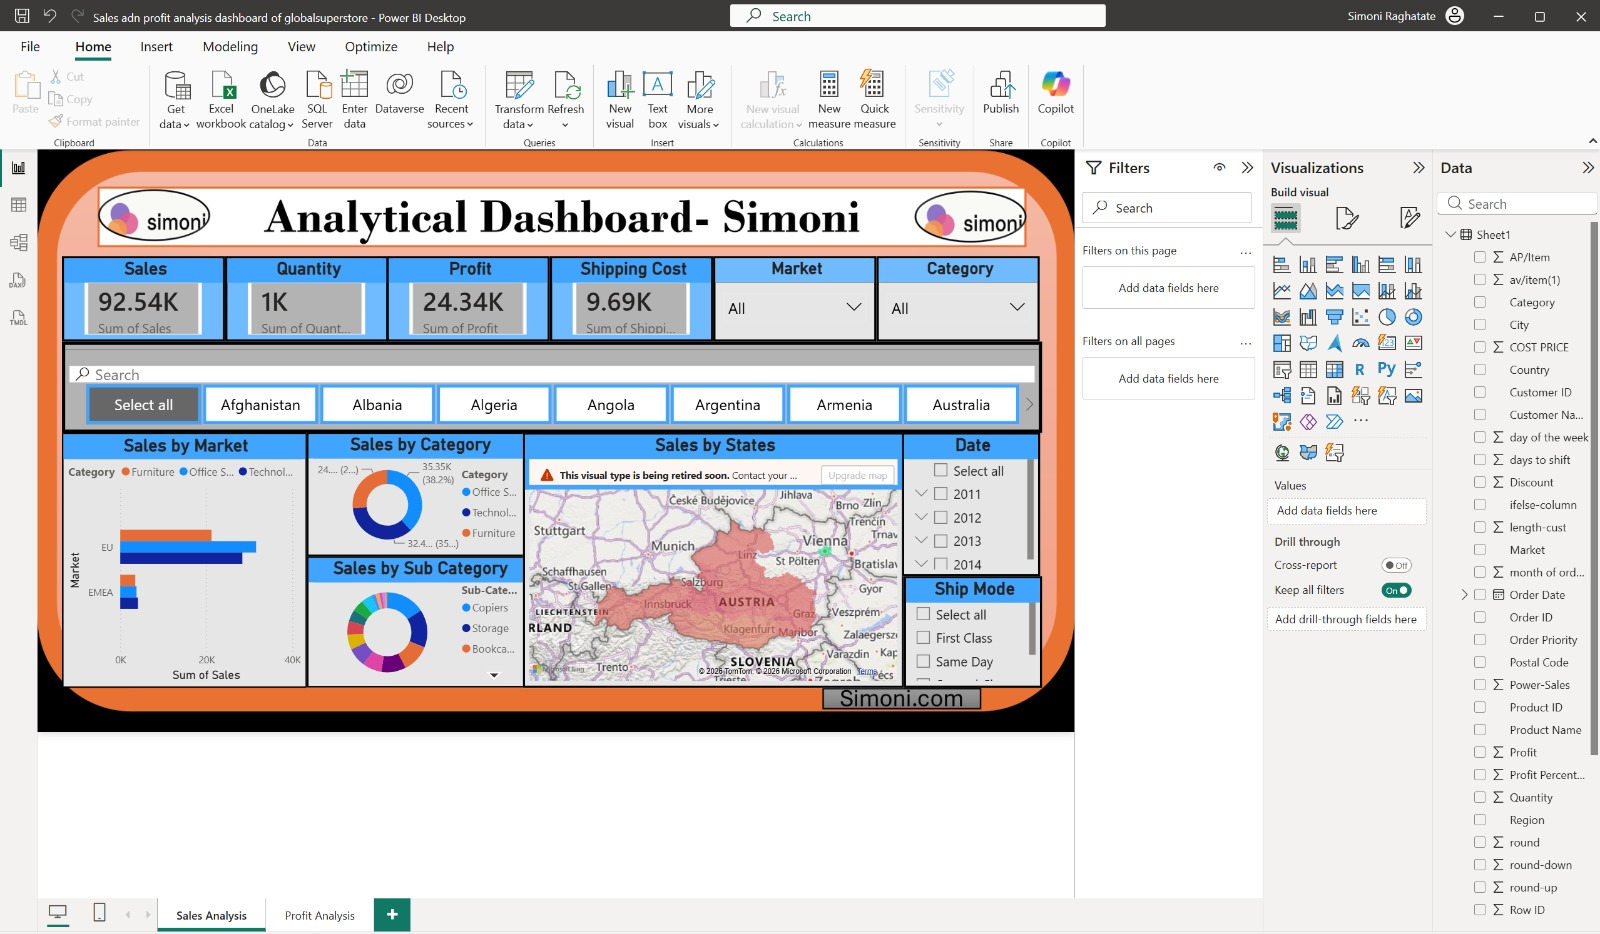

The page's visual inventory and layout, read from the dashboard file:
{"tool":"powerbi","page":{"name":"Sales Analysis","canvas":[1280,720],"ordinal":0},"visuals":[{"type":"cardVisual","title":"Sales","fields":{"Data":["Sum(Sheet1.Sales)"]},"box":[30.1,132.1,201.6,105.4],"z":0},{"type":"slicer","title":"Market ","fields":{"Values":["Sheet1.Market"]},"box":[834.3,132.1,201.6,105.4],"z":1000},{"type":"slicer","title":"Category ","fields":{"Values":["Sheet1.Category"]},"box":[1035.9,132.1,201.6,105.4],"z":2000},{"type":"slicer","fields":{"Values":["Sheet1.Country"]},"box":[30.1,237.5,1209.7,112.4],"z":3000},{"type":"clusteredBarChart","title":"Sales by Market ","fields":{"Category":["Sheet1.Market"],"Series":["Sheet1.Category"],"Y":["Sum(Sheet1.Sales)"]},"box":[30.1,349.9,302.4,315.2],"z":4000},{"type":"donutChart","title":"Sales by Category ","fields":{"Category":["Sheet1.Category"],"Y":["Sum(Sheet1.Sales)"]},"box":[332.6,349.9,276.9,153],"z":5000},{"type":"donutChart","title":"Sales by Sub Category ","fields":{"Category":["Sheet1.Sub-Category"],"Y":["Sum(Sheet1.Sales)"]},"box":[332.6,502.9,276.9,162.2],"z":6000},{"type":"filledMap","title":"Sales by States","fields":{"Category":["Sheet1.State"]},"box":[599.1,349.9,470.4,315.2],"z":7000},{"type":"slicer","title":"Date","fields":{"Values":["Sheet1.Order Date.Variation.Date Hierarchy.Year","Sheet1.Order Date.Variation.Date Hierarchy.Quarter","Sheet1.Order Date.Variation.Date Hierarchy.Month","Sheet1.Order Date.Variation.Date Hierarchy.Day"]},"box":[1067.2,349.9,170.3,177.3],"z":8000},{"type":"slicer","title":"Ship Mode ","fields":{"Values":["Sheet1.Ship Mode"]},"box":[1069.5,527.2,170.3,137.9],"z":9000},{"type":"cardVisual","title":"Quantity","fields":{"Data":["Sum(Sheet1.Quantity)"]},"box":[231.7,132.1,201.6,105.4],"z":10000},{"type":"cardVisual","title":"Profit ","fields":{"Data":["Sum(Sheet1.Profit)"]},"box":[431,132.1,201.6,105.4],"z":11000},{"type":"cardVisual","title":"Shipping Cost ","fields":{"Data":["Sum(Sheet1.Shipping Cost)"]},"box":[632.7,132.1,201.6,105.4],"z":12000}]}

Visuals, with their boxes on the page's 1280x720 design canvas (x1, y1, x2, y2). These are canvas units, not pixel positions in the 1600x934 screenshot, which may show the page scaled, cropped or inside an application window:
"Sales" cardVisual: left=30, top=132, right=232, bottom=238
"Market " slicer: left=834, top=132, right=1036, bottom=238
"Category " slicer: left=1036, top=132, right=1238, bottom=238
slicer - Sheet1.Country: left=30, top=238, right=1240, bottom=350
"Sales by Market " clusteredBarChart: left=30, top=350, right=332, bottom=665
"Sales by Category " donutChart: left=333, top=350, right=610, bottom=503
"Sales by Sub Category " donutChart: left=333, top=503, right=610, bottom=665
"Sales by States" filledMap: left=599, top=350, right=1070, bottom=665
"Date" slicer: left=1067, top=350, right=1238, bottom=527
"Ship Mode " slicer: left=1070, top=527, right=1240, bottom=665
"Quantity" cardVisual: left=232, top=132, right=433, bottom=238
"Profit " cardVisual: left=431, top=132, right=633, bottom=238
"Shipping Cost " cardVisual: left=633, top=132, right=834, bottom=238
